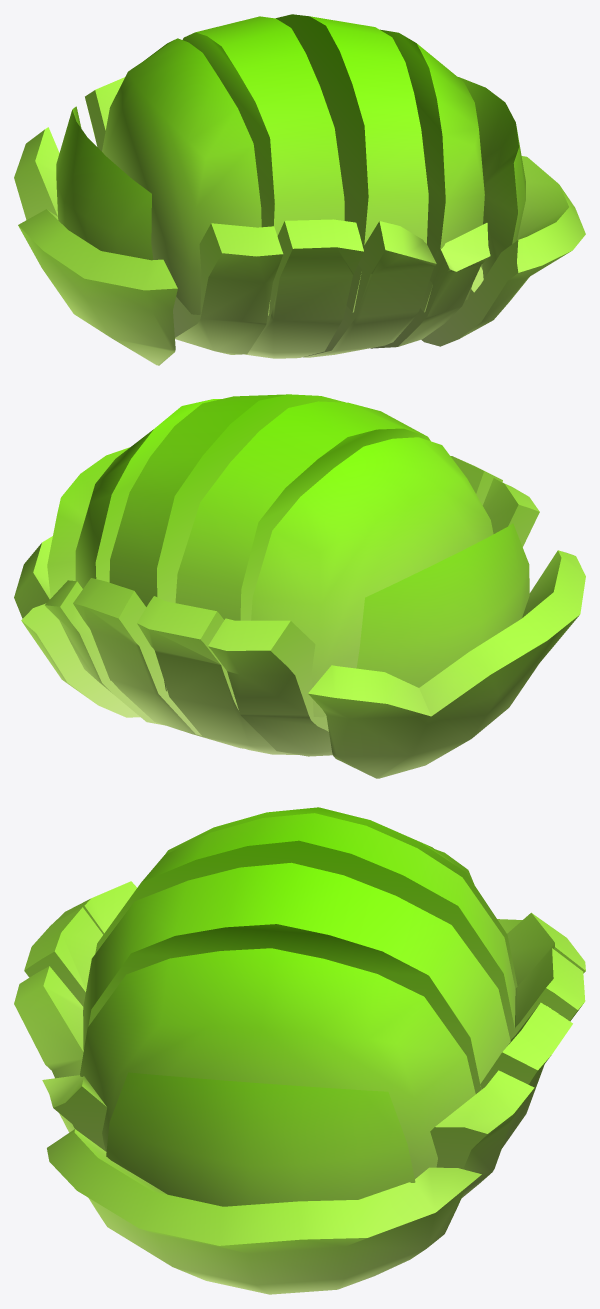
The model's file is Lettuce_01_S5.fbx.
3 renders of one model, top to bottom at view 1: azimuth 30°, elevation 25°; view 2: azimuth 150°, elevation 25°; view 3: azimuth 270°, elevation 25°, orthographic. The views are drawn at different scales.
Visible parts, largest first — view 1: Lettuce_01_S5; view 2: Lettuce_01_S5; view 3: Lettuce_01_S5.
Boxes of the visible parts, x1,y1,x2,y2 form: Lettuce_01_S5: (14,14,585,365); Lettuce_01_S5: (14,394,585,778); Lettuce_01_S5: (14,807,585,1294).
Bounding box in the file's own units: 76.81 × 46.72 × 63.55.
